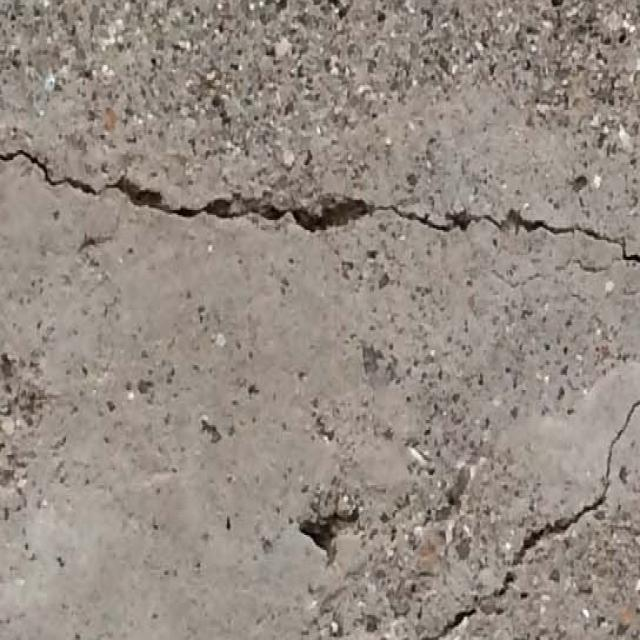Diagonal: (418, 390, 640, 639)
Transverse: (0, 137, 640, 266)
